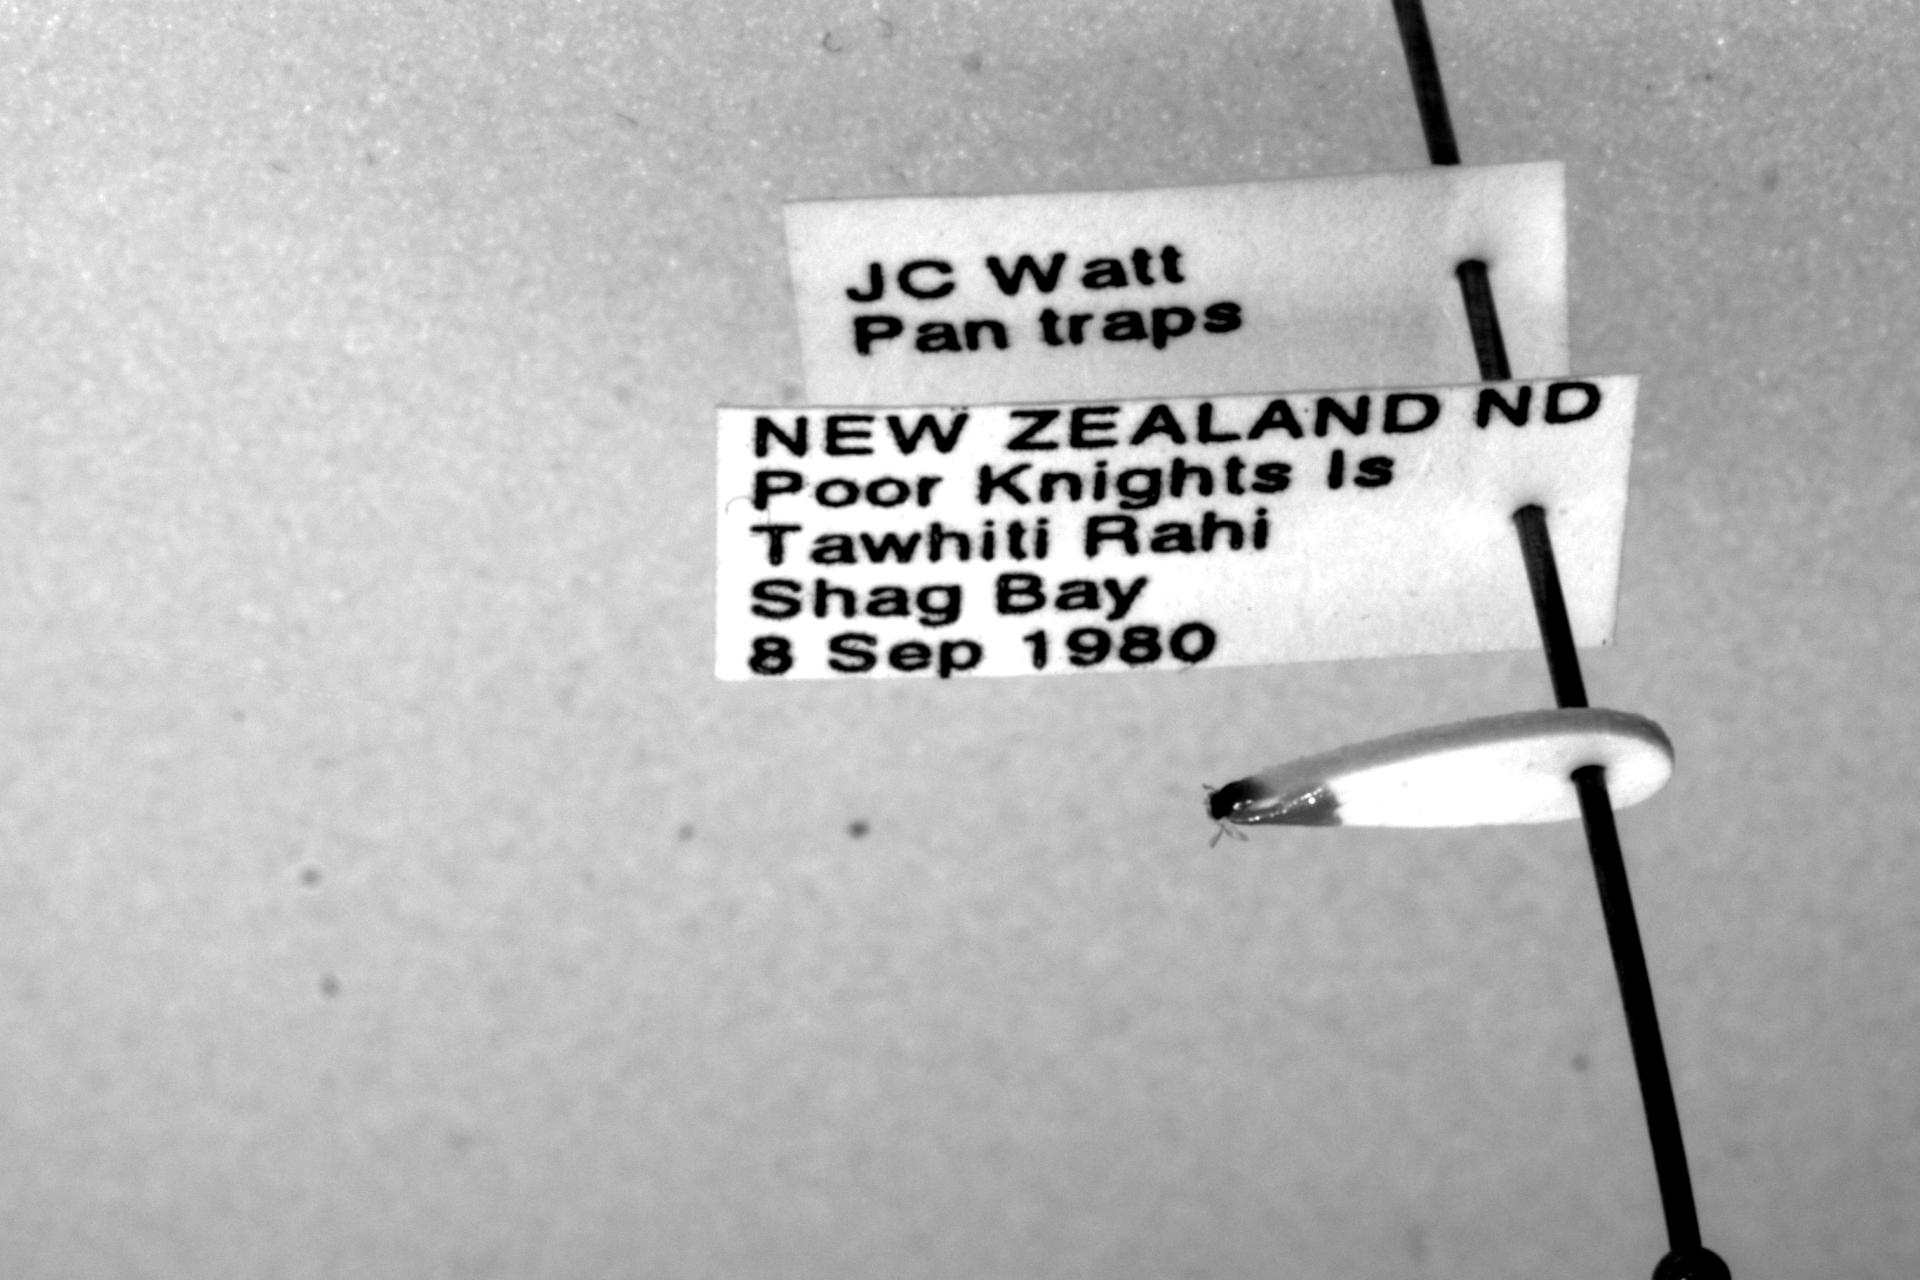typed_label: (716, 375, 1635, 679), (784, 161, 1571, 405)
